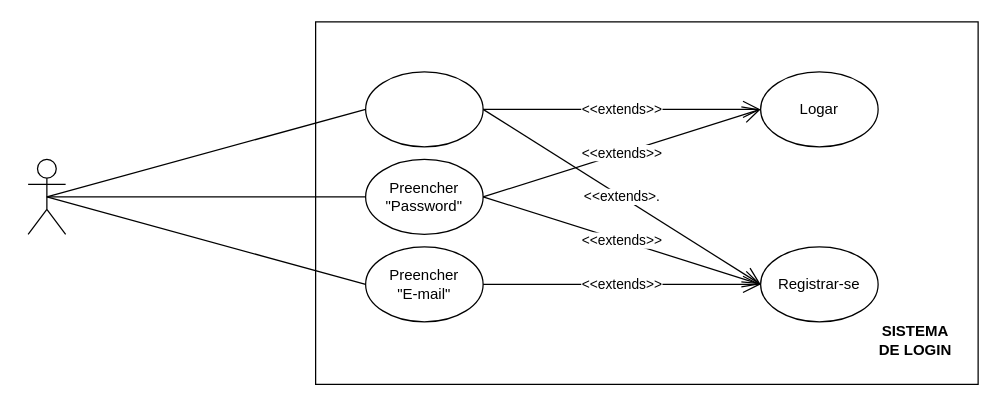
The diagram is 1000 pixels wide and 406 high, and some of its shapes have lost their labels. The centre of each missing label's shape, as x and y in pixels:
Preencher "Username": the point at 423,109
Usuário: the point at 46,196
